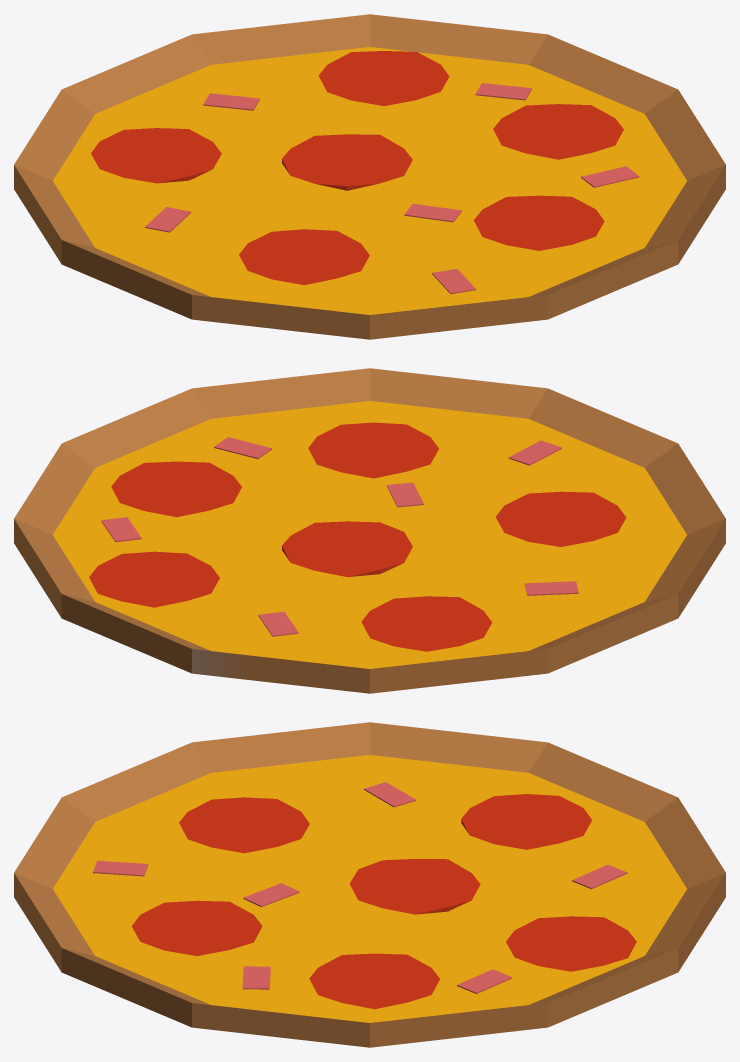
Rendered from pizza.fbx.
3 renders of one model, top to bottom at view 1: azimuth 30°, elevation 25°; view 2: azimuth 150°, elevation 25°; view 3: azimuth 270°, elevation 25°, orthographic.
Visible parts, largest first — view 1: Cylinder; view 2: Cylinder; view 3: Cylinder.
Part boxes in pixels (bbox=[...]): Cylinder: bbox=[14, 14, 725, 339]; Cylinder: bbox=[14, 368, 725, 693]; Cylinder: bbox=[14, 722, 725, 1047].
Size of the model in its own units: 0.2974 by 0.0113 by 0.2974.
Materials: 1 (1 with a texture image).
